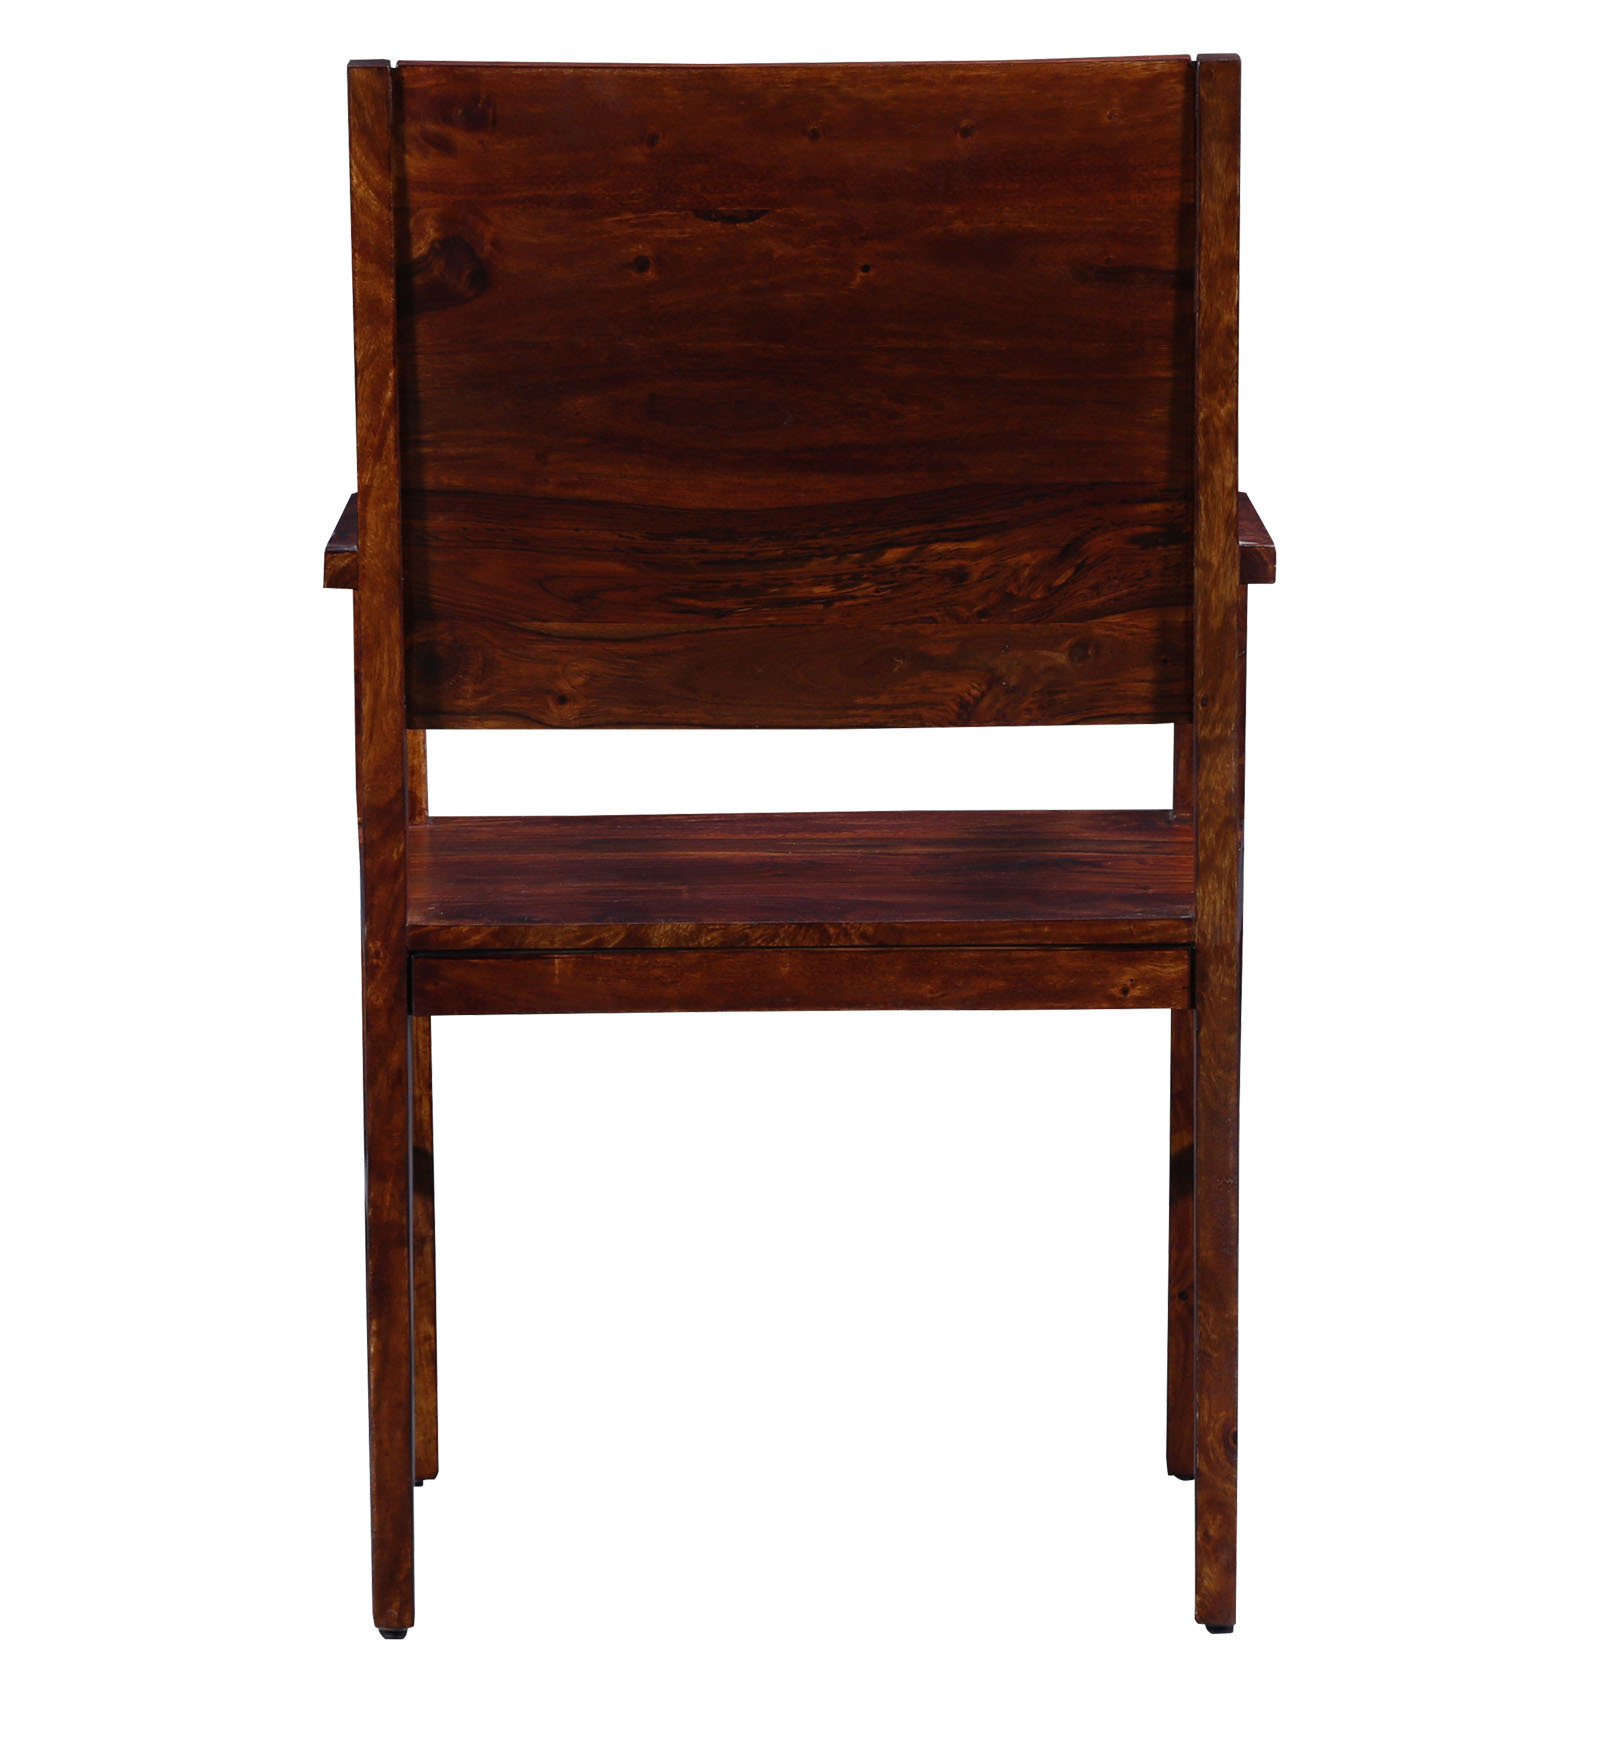Oriel Arm Chair in Honey oak Finish by Woodsworth: (320, 48, 1287, 1633)
